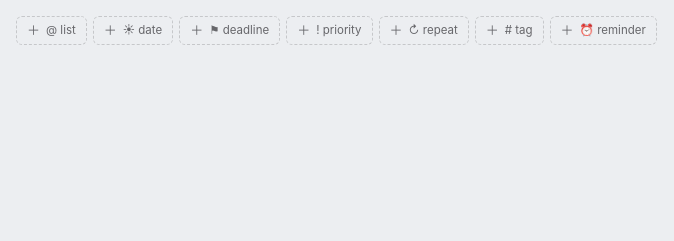
Test case: the field sheets in the detail › puts the focus on the first choice, not behind the sheet
This screenshot has width=674, height=241.
Click the button "＋ ! priority" at (329, 30), box [286, 16, 373, 45]
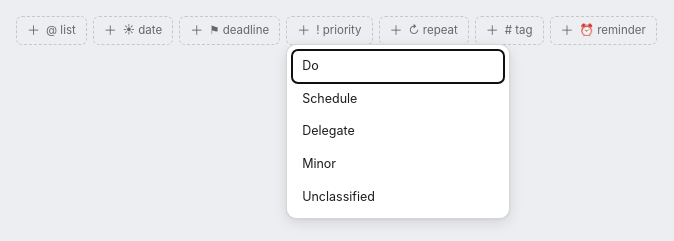
Check: the button "Do" is shown, box [292, 50, 504, 83]
